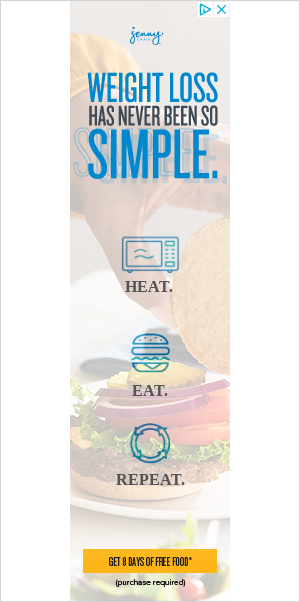fake_button: (68, 541, 229, 578), (191, 0, 235, 21)
